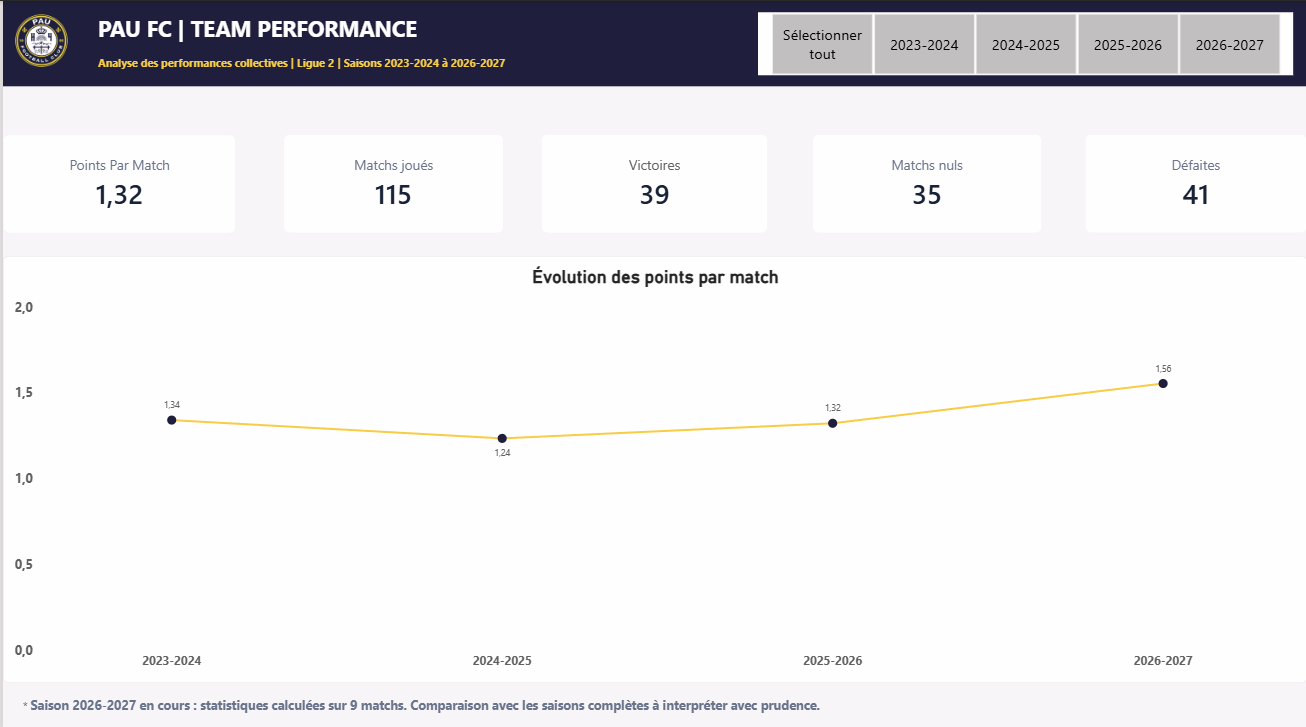

The page's visual inventory and layout, read from the dashboard file:
{"tool":"powerbi","page":{"name":"01 - Team Performance","canvas":[1920,1080],"ordinal":0},"visuals":[{"type":"shape","box":[0,0,1920,125.8],"z":0},{"type":"textbox","box":[139.6,0,696.3,141.3],"z":1000},{"type":"slicer","fields":{"Values":["dim_season.season"]},"box":[1111.3,16.5,787.8,92.9],"z":2000},{"type":"cardVisual","fields":{"Data":["analytics fct_match_performance.Points Per Match"]},"box":[0,196.5,343,144.8],"z":3000},{"type":"cardVisual","fields":{"Data":["analytics fct_match_performance.Matches Played"]},"box":[413.6,196.5,322.3,144.8],"z":4000},{"type":"cardVisual","fields":{"Data":["analytics fct_match_performance.Total Wins"]},"box":[792.8,196.5,332.6,144.8],"z":5000},{"type":"cardVisual","fields":{"Data":["analytics fct_match_performance.Total Draws"]},"box":[1192.7,196.5,336.1,144.8],"z":6000},{"type":"cardVisual","fields":{"Data":["analytics fct_match_performance.Total Losses"]},"box":[1594.3,196.5,325.7,144.8],"z":7000},{"type":"lineChart","title":"Évolution des points par match","fields":{"Category":["dim_season.season"],"Y":["analytics fct_match_performance.Points Per Match"]},"box":[0,375.7,1920,629.1],"z":8000},{"type":"image","box":[17.2,19,80,80],"z":9000},{"type":"textbox","box":[29.3,1004.8,1416.7,75.8],"z":10000}]}

Visuals, with their boxes in screenshot pixels (x1, y1, x2, y2), scaled from the page's 1920x1080 canvas onto the 1306x727 screenshot:
shape: select_region(0, 0, 1305, 85)
textbox: select_region(95, 0, 569, 95)
slicer - dim_season.season: select_region(756, 11, 1292, 74)
cardVisual - analytics fct_match_performance.Points Per Match: select_region(0, 132, 233, 230)
cardVisual - analytics fct_match_performance.Matches Played: select_region(281, 132, 501, 230)
cardVisual - analytics fct_match_performance.Total Wins: select_region(539, 132, 766, 230)
cardVisual - analytics fct_match_performance.Total Draws: select_region(811, 132, 1040, 230)
cardVisual - analytics fct_match_performance.Total Losses: select_region(1084, 132, 1305, 230)
"Évolution des points par match" lineChart: select_region(0, 253, 1305, 676)
image: select_region(12, 13, 66, 67)
textbox: select_region(20, 676, 984, 726)
